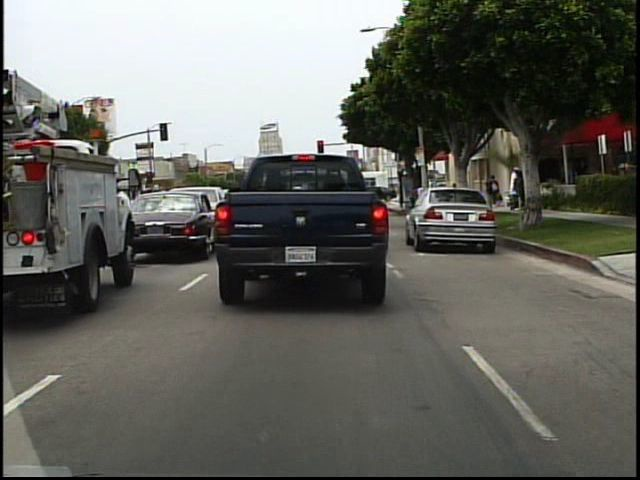person: (488, 175, 503, 206)
